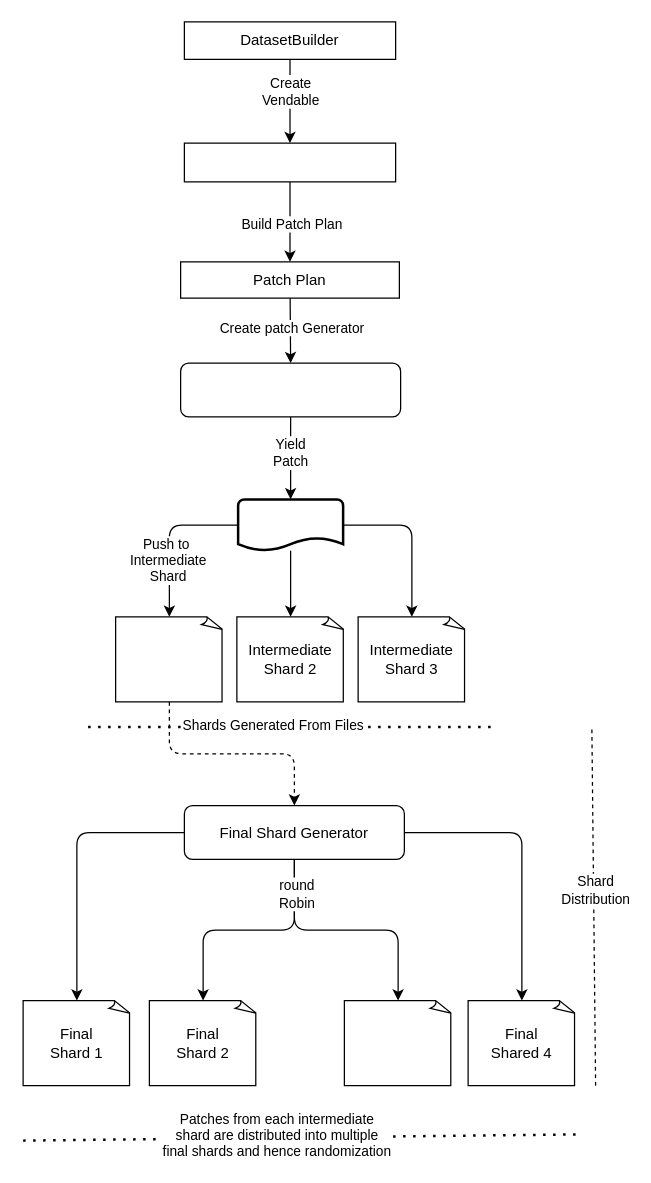
This 651x1183 diagram has some shape labels left out. Each missing label, with the box of its shape:
Final Shard 3: (343, 999, 452, 1086)
Intermediate Shard 1: (114, 616, 223, 702)
patch_generator: (179, 362, 401, 417)
Vendable: (183, 142, 396, 182)
